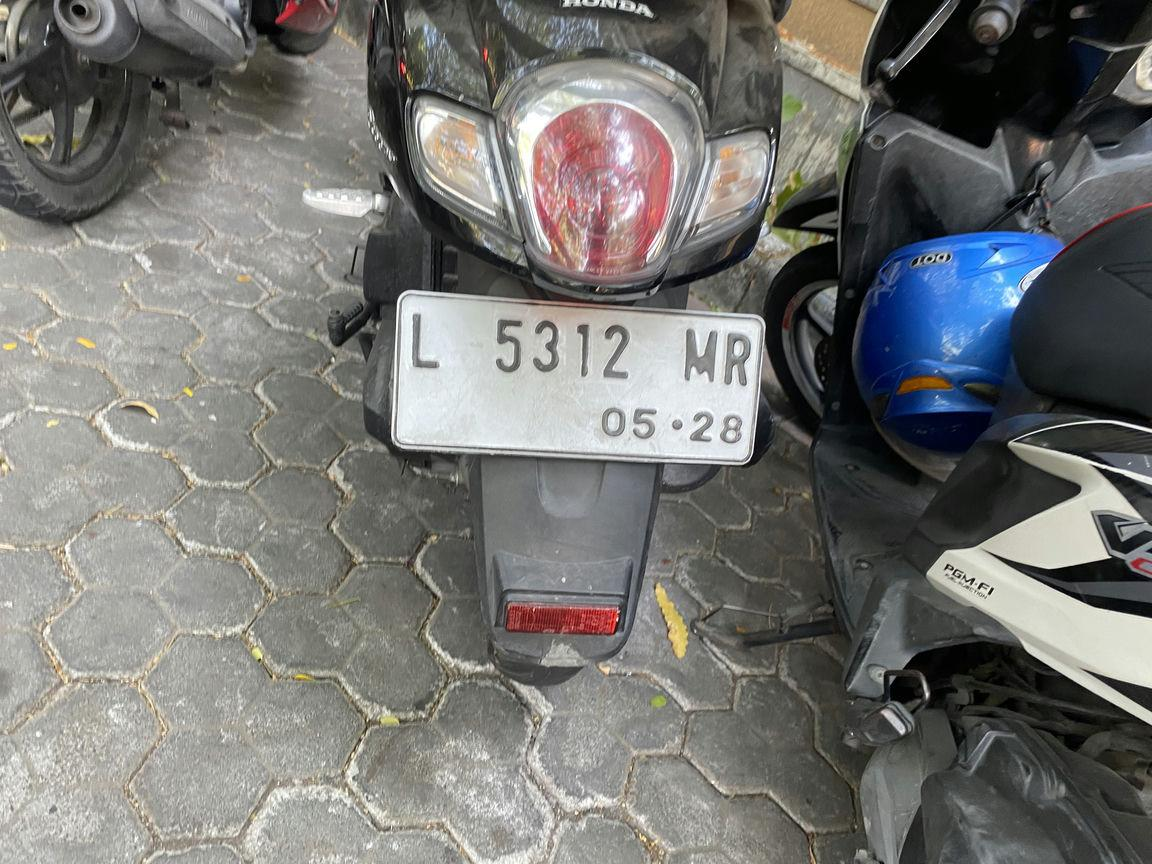plat: (392, 290, 765, 466)
